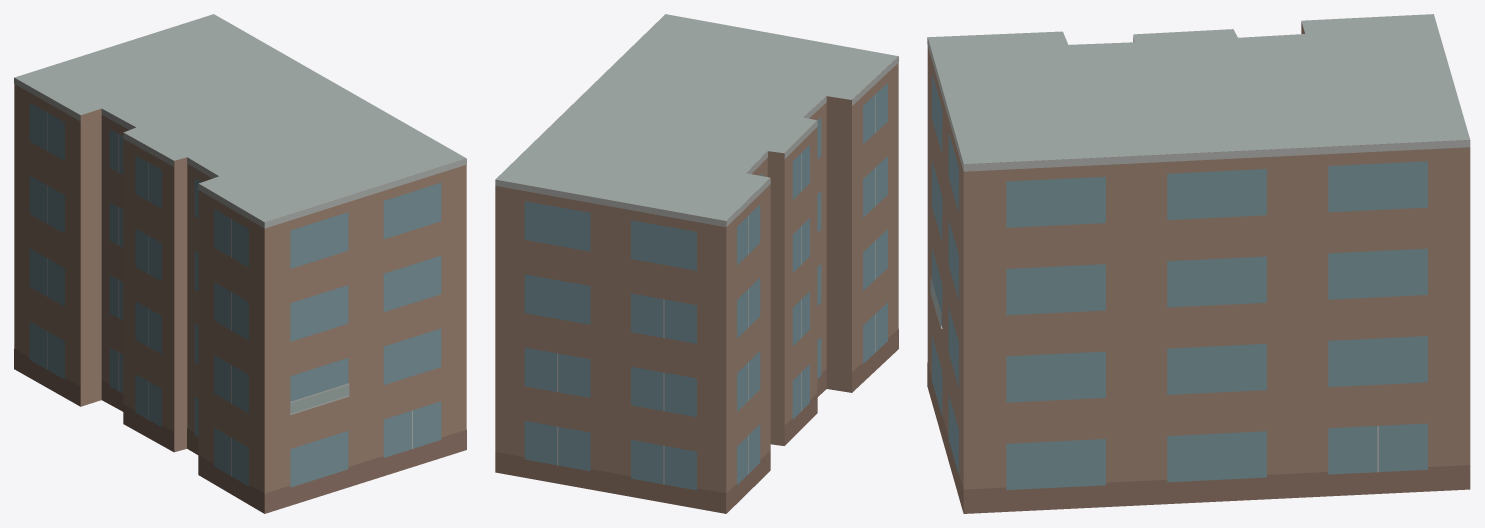
Rendered from survey-upis-32885716.glb.
3 views of the same model, side by side, from view 1: azimuth 30°, elevation 25°; view 2: azimuth 150°, elevation 25°; view 3: azimuth 270°, elevation 25° (orthographic). The views are drawn at different scales.
Parts seen in each view (by area): view 1: survey-upis-32885716.tmp; view 2: survey-upis-32885716.tmp; view 3: survey-upis-32885716.tmp.
Part boxes in pixels (x1,y1,x2,y2): survey-upis-32885716.tmp: [14, 14, 466, 513]; survey-upis-32885716.tmp: [495, 14, 898, 513]; survey-upis-32885716.tmp: [927, 14, 1470, 513].
Bounding box in the file's own units: 10.51 × 11.4 × 16.05.
